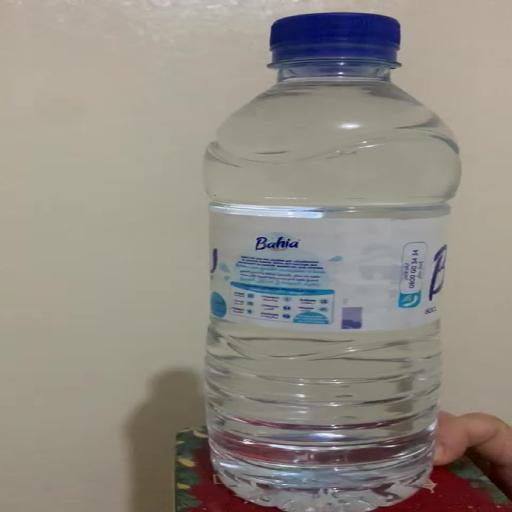bouteille conformite: (199, 7, 499, 512)
